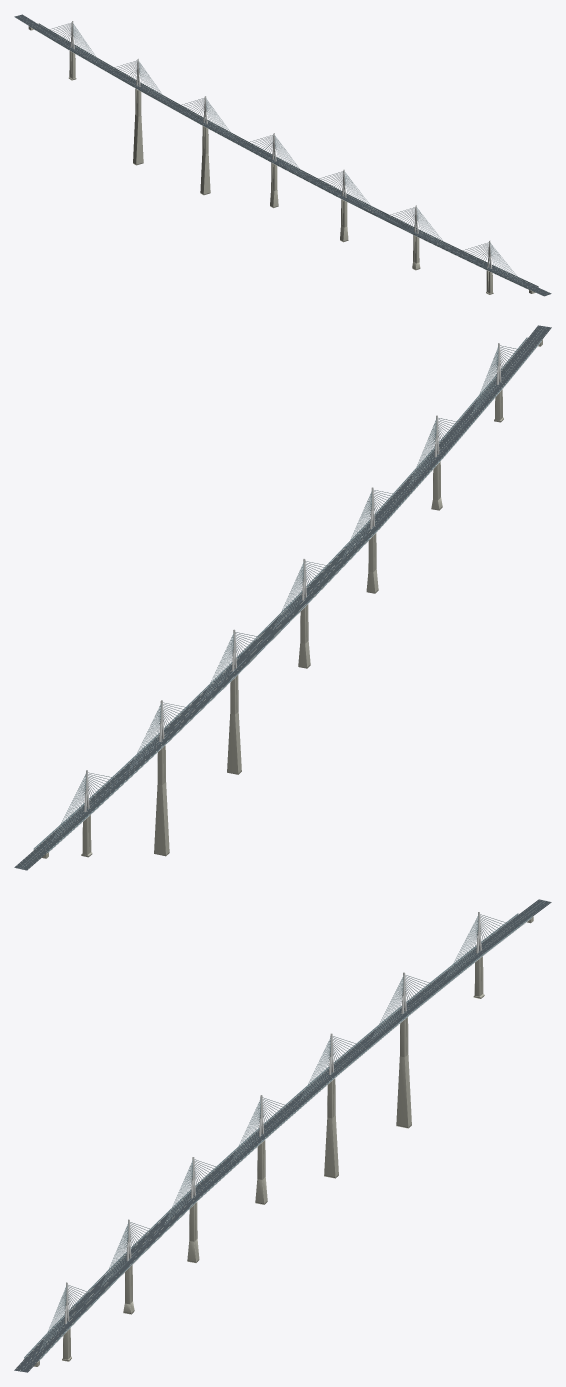
File: viaduc-de-millau-near.glb
3 renders of one model, top to bottom at view 1: azimuth 30°, elevation 25°; view 2: azimuth 150°, elevation 25°; view 3: azimuth 330°, elevation 25°, orthographic. The views are drawn at different scales.
Visible parts, largest first — view 1: viaduc-de-millau-3-cable, viaduc-de-millau-2-cable, viaduc-de-millau-0-cable, viaduc-de-millau-0-asphalt, viaduc-de-millau-3-asphalt, viaduc-de-millau-0-concrete, viaduc-de-millau-2-asphalt, viaduc-de-millau-1-asphalt, viaduc-de-millau-2-concrete, viaduc-de-millau-1-concrete, viaduc-de-millau-1-cable, viaduc-de-millau-3-concrete (+3 smaller); view 2: viaduc-de-millau-0-asphalt, viaduc-de-millau-3-asphalt, viaduc-de-millau-1-asphalt, viaduc-de-millau-2-asphalt, viaduc-de-millau-0-concrete, viaduc-de-millau-0-cable, viaduc-de-millau-2-cable, viaduc-de-millau-3-cable, viaduc-de-millau-2-concrete, viaduc-de-millau-1-concrete, viaduc-de-millau-1-cable, viaduc-de-millau-3-concrete; view 3: viaduc-de-millau-0-asphalt, viaduc-de-millau-3-asphalt, viaduc-de-millau-2-asphalt, viaduc-de-millau-1-asphalt, viaduc-de-millau-0-concrete, viaduc-de-millau-0-cable, viaduc-de-millau-2-cable, viaduc-de-millau-3-cable, viaduc-de-millau-2-concrete, viaduc-de-millau-1-concrete, viaduc-de-millau-1-cable, viaduc-de-millau-3-concrete.
Boxes of the visible parts, left/top/right/bottom form: viaduc-de-millau-3-cable: left=385, top=207, right=522, bottom=282; viaduc-de-millau-2-cable: left=244, top=134, right=375, bottom=212; viaduc-de-millau-0-cable: left=44, top=22, right=167, bottom=101; viaduc-de-millau-0-asphalt: left=14, top=14, right=155, bottom=94; viaduc-de-millau-3-asphalt: left=399, top=224, right=551, bottom=296; viaduc-de-millau-0-concrete: left=28, top=26, right=143, bottom=165; viaduc-de-millau-2-asphalt: left=271, top=159, right=405, bottom=226; viaduc-de-millau-1-asphalt: left=149, top=92, right=277, bottom=161; viaduc-de-millau-2-concrete: left=270, top=163, right=348, bottom=242; viaduc-de-millau-1-concrete: left=200, top=126, right=210, bottom=195; viaduc-de-millau-1-cable: left=176, top=98, right=235, bottom=139; viaduc-de-millau-3-concrete: left=412, top=235, right=535, bottom=294; viaduc-de-millau-0-asphalt: left=14, top=724, right=181, bottom=870; viaduc-de-millau-3-asphalt: left=417, top=325, right=551, bottom=470; viaduc-de-millau-1-asphalt: left=170, top=597, right=309, bottom=726; viaduc-de-millau-2-asphalt: left=298, top=469, right=429, bottom=599; viaduc-de-millau-0-concrete: left=32, top=745, right=169, bottom=858; viaduc-de-millau-0-cable: left=52, top=702, right=193, bottom=840; viaduc-de-millau-2-cable: left=273, top=490, right=400, bottom=629; viaduc-de-millau-3-cable: left=408, top=345, right=525, bottom=486; viaduc-de-millau-2-concrete: left=298, top=533, right=378, bottom=668; viaduc-de-millau-1-concrete: left=227, top=675, right=241, bottom=774; viaduc-de-millau-1-cable: left=202, top=632, right=265, bottom=700; viaduc-de-millau-3-concrete: left=431, top=339, right=542, bottom=510; viaduc-de-millau-0-asphalt: left=383, top=899, right=551, bottom=1025; viaduc-de-millau-3-asphalt: left=14, top=1245, right=147, bottom=1372; viaduc-de-millau-2-asphalt: left=135, top=1134, right=266, bottom=1247; viaduc-de-millau-1-asphalt: left=255, top=1023, right=394, bottom=1135; viaduc-de-millau-0-concrete: left=396, top=916, right=533, bottom=1128; viaduc-de-millau-0-cable: left=372, top=914, right=512, bottom=1038; viaduc-de-millau-2-cable: left=165, top=1097, right=292, bottom=1223; viaduc-de-millau-3-cable: left=40, top=1222, right=157, bottom=1349; viaduc-de-millau-2-concrete: left=187, top=1140, right=267, bottom=1262; viaduc-de-millau-1-concrete: left=324, top=1078, right=338, bottom=1178; viaduc-de-millau-1-cable: left=300, top=1036, right=363, bottom=1099; viaduc-de-millau-3-concrete: left=23, top=1265, right=134, bottom=1366.
Size of the model in its own units: 319 by 388 by 2594.
